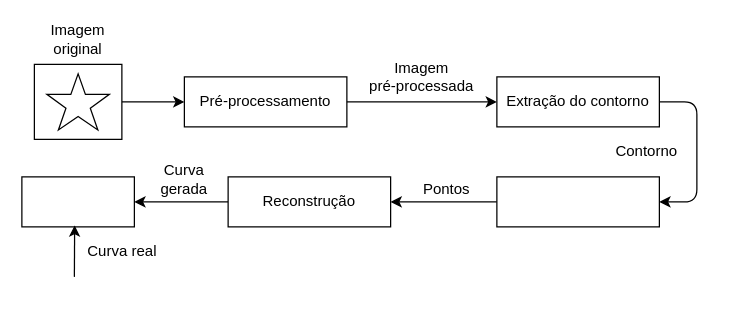
Image size: 729x309. Some labels were removed from this diagram. Each missing label, with the centre of its shape:
Identificação dos pontos importantes: (x=577, y=201)
Validação: (x=77, y=201)
